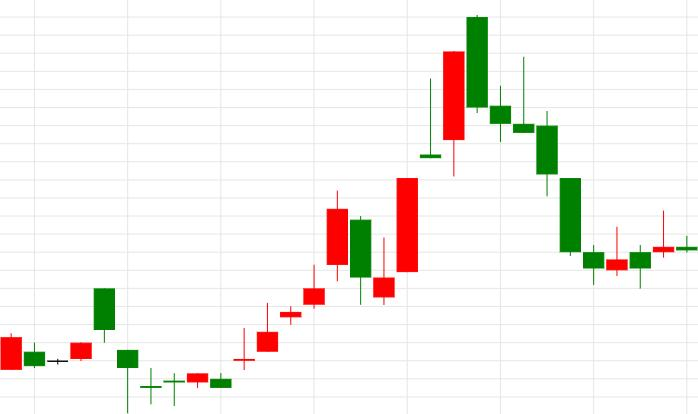three_black_crows_fall: (373, 14, 534, 305)
